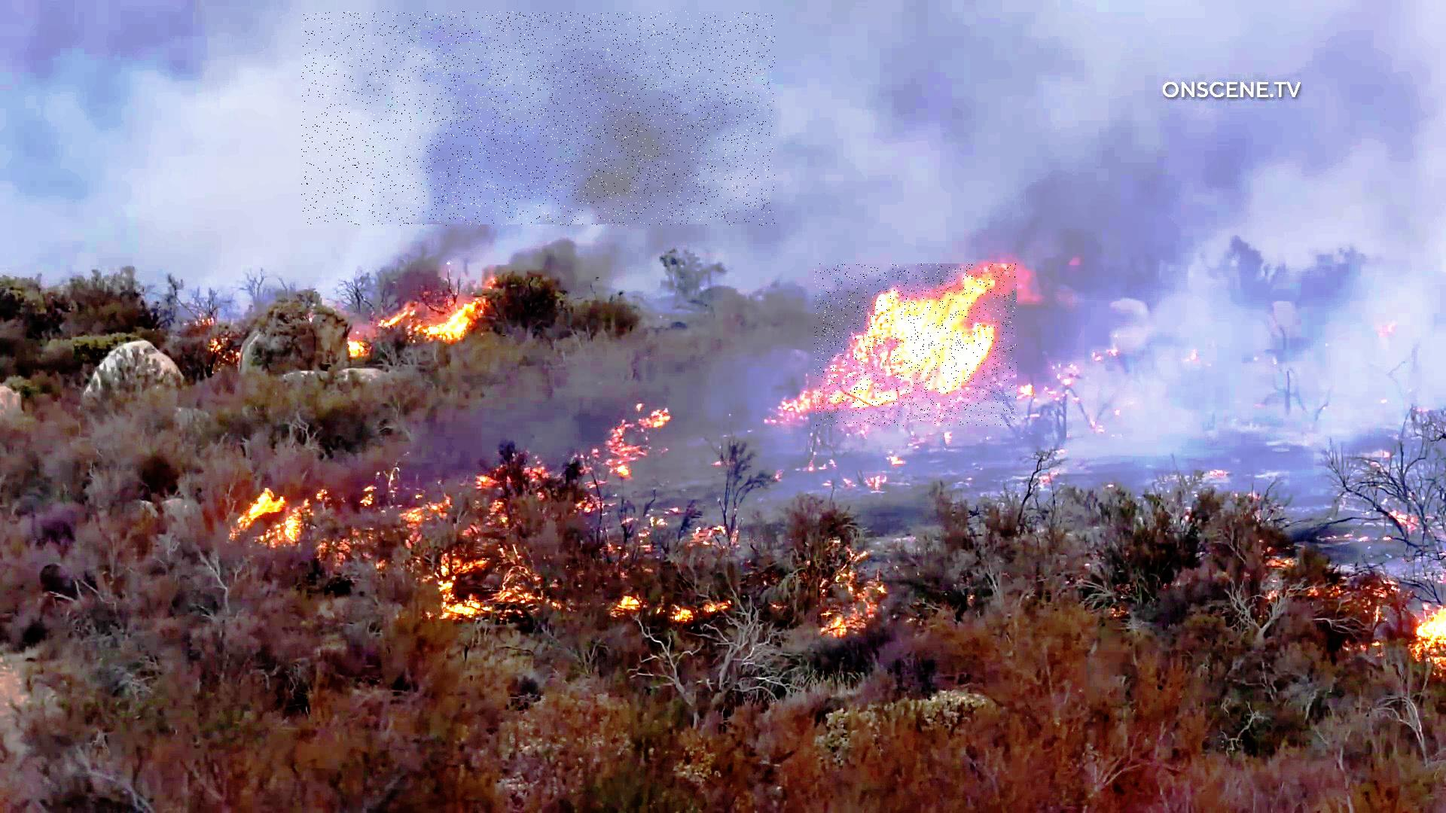fire: (814, 264, 1017, 426)
smoke: (301, 12, 775, 226)
